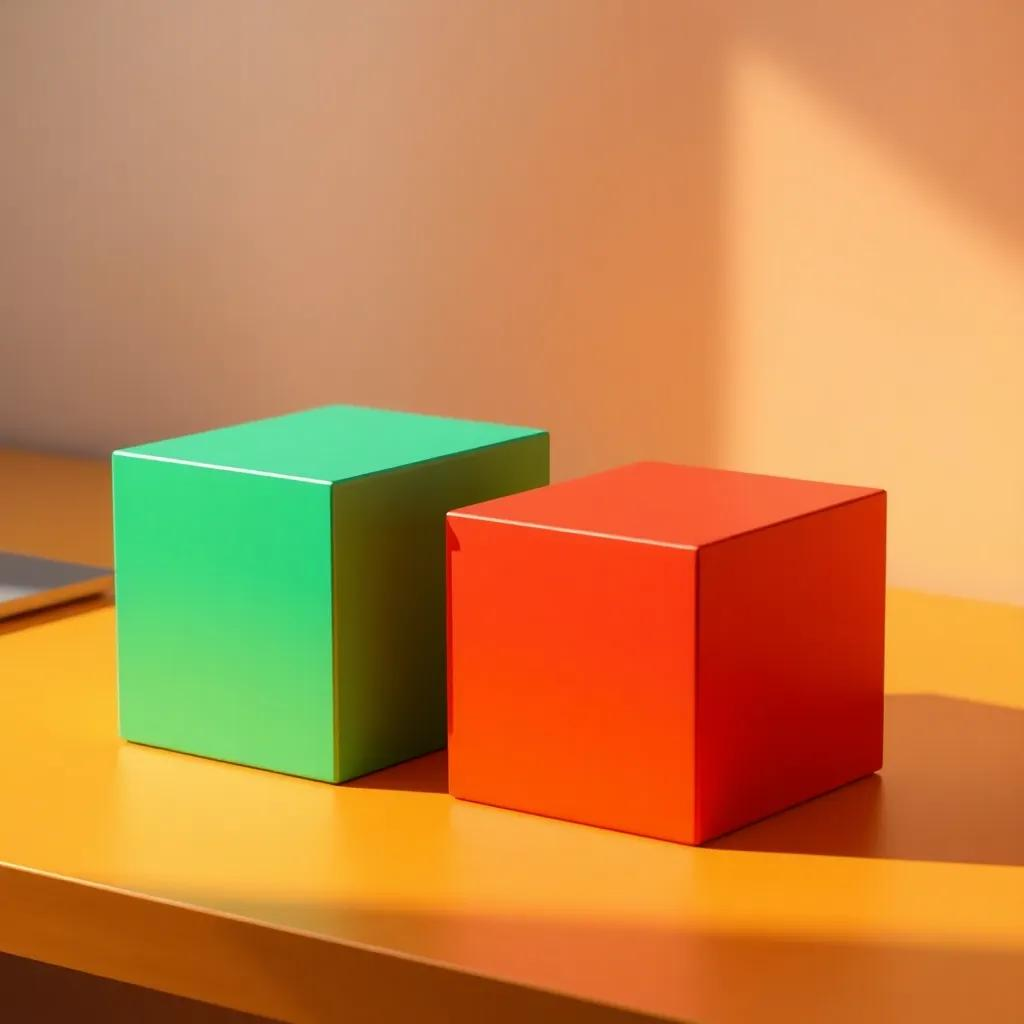cube: (444, 457, 887, 846), (109, 401, 550, 784)
